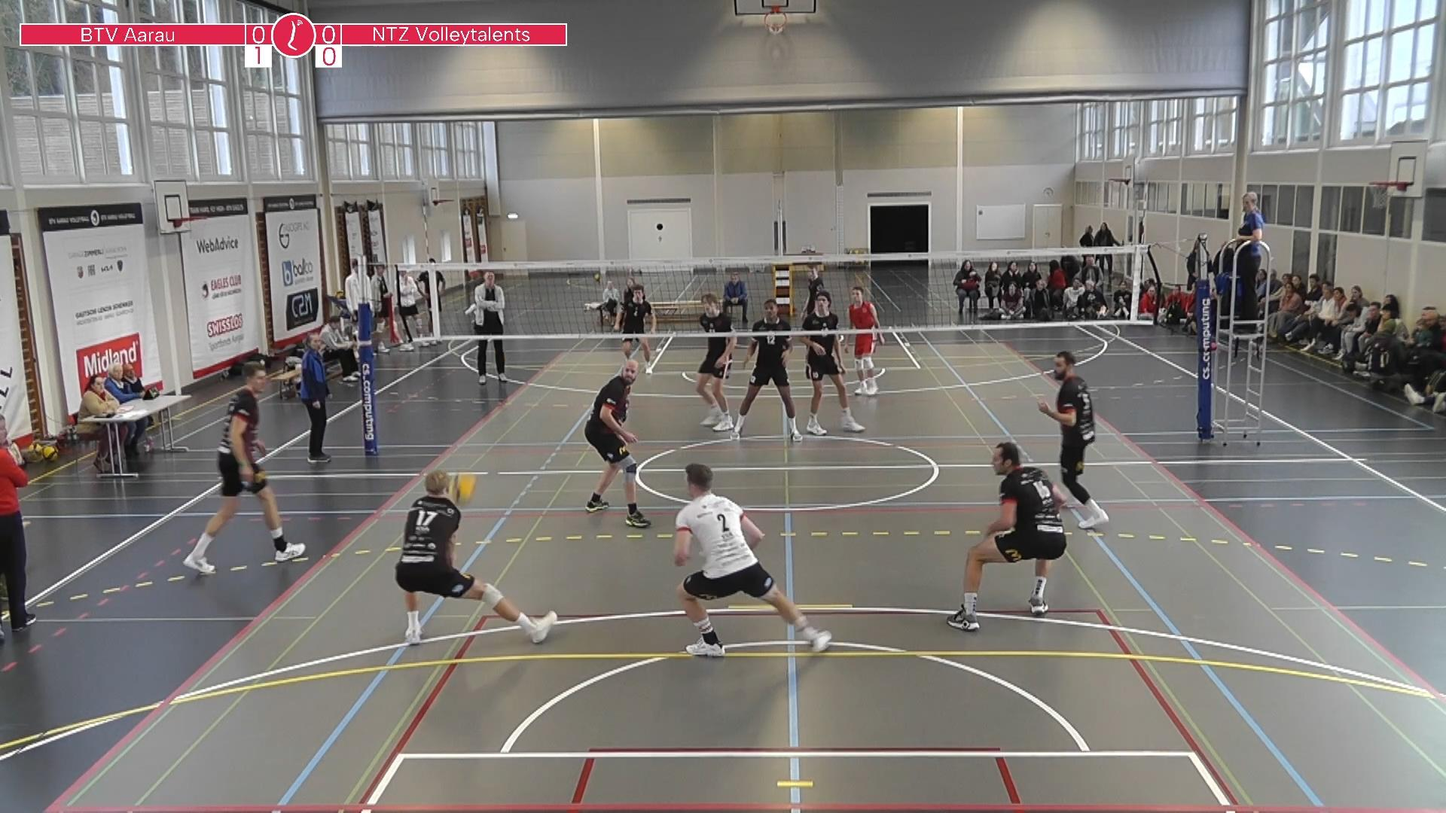Player: (673, 463, 831, 656), (183, 362, 304, 574), (947, 443, 1066, 631), (1039, 351, 1109, 529), (584, 359, 651, 527), (731, 299, 801, 441), (801, 291, 864, 435), (696, 293, 736, 431), (848, 286, 882, 394), (615, 284, 655, 373), (803, 265, 824, 314)
Receive: (394, 467, 564, 648)
ball: (442, 463, 480, 505)
